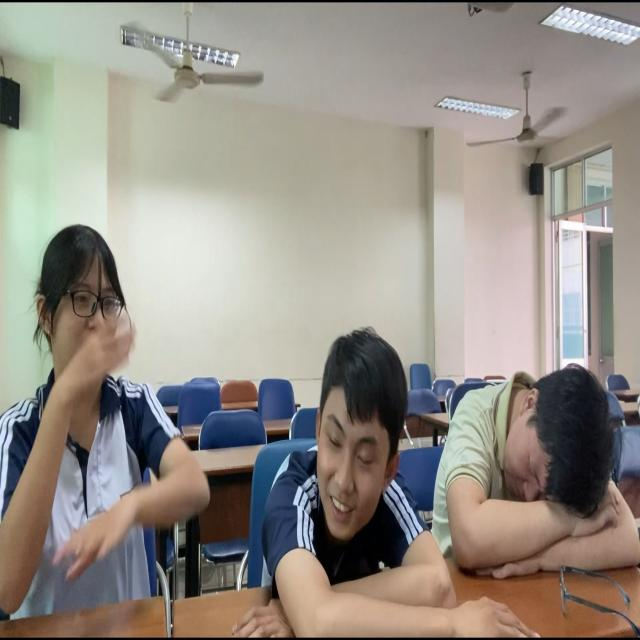raise_hand: (1, 216, 213, 638)
sleep: (245, 327, 445, 640), (435, 370, 640, 581)
